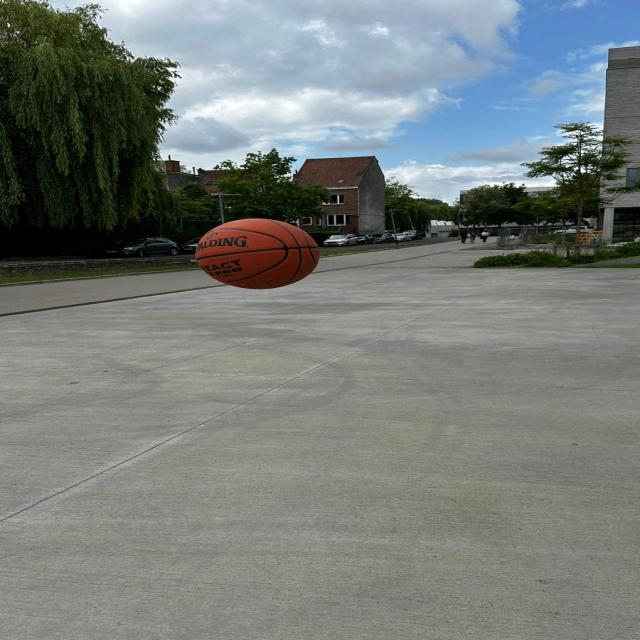Basketball: (193, 216, 320, 289)
